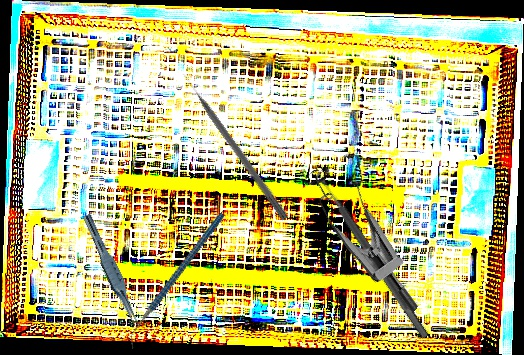Chopper: (97, 212, 257, 349)
Fixation Ring: (302, 164, 438, 346)
Pusher: (180, 70, 291, 222)
Speculum: (283, 139, 468, 315)
Tissue Forceps: (76, 213, 146, 329)
